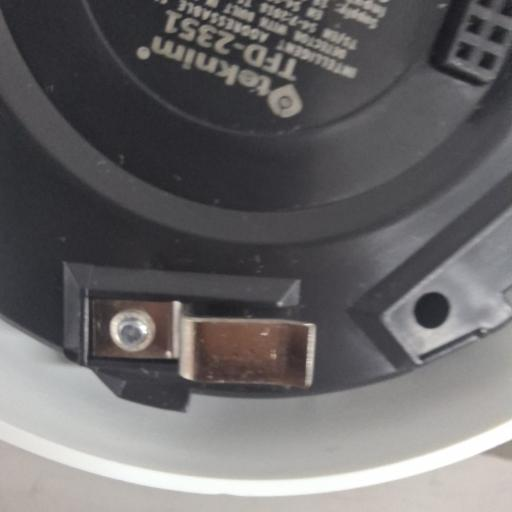yaysiz: (88, 295, 327, 396)
